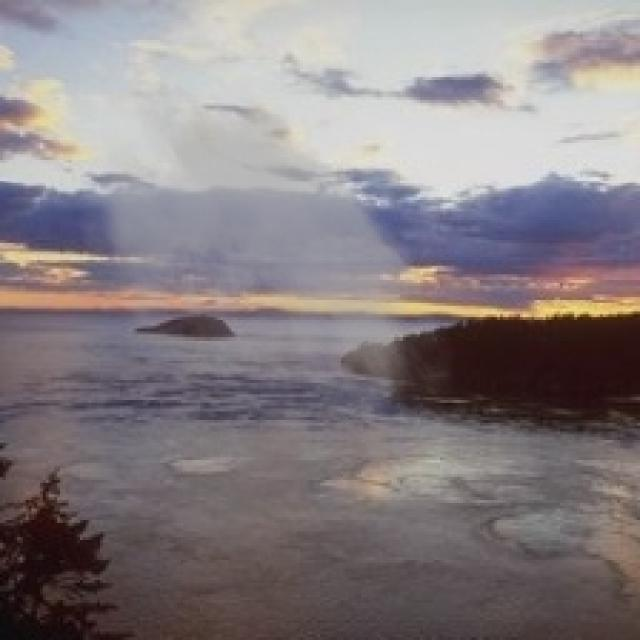Smoke: (60, 68, 463, 486)
